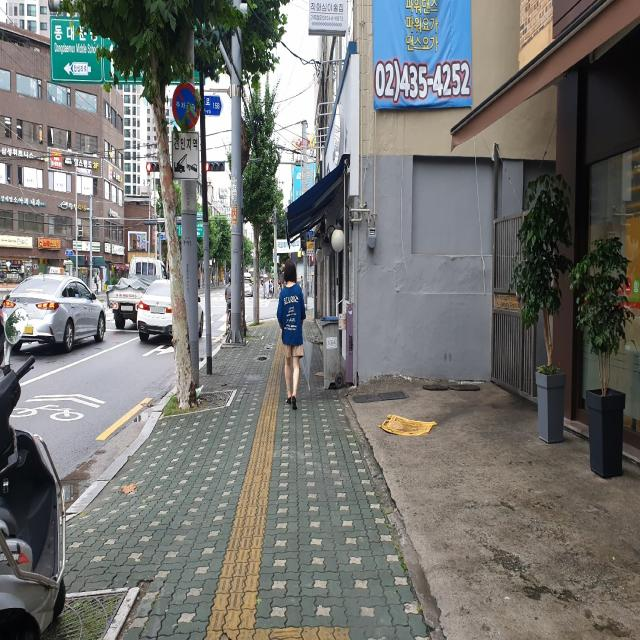motorbike: (0, 353, 66, 640)
